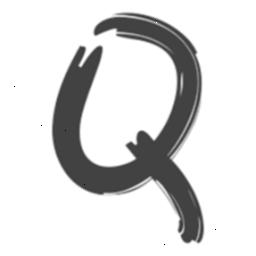q: (32, 0, 222, 256)
